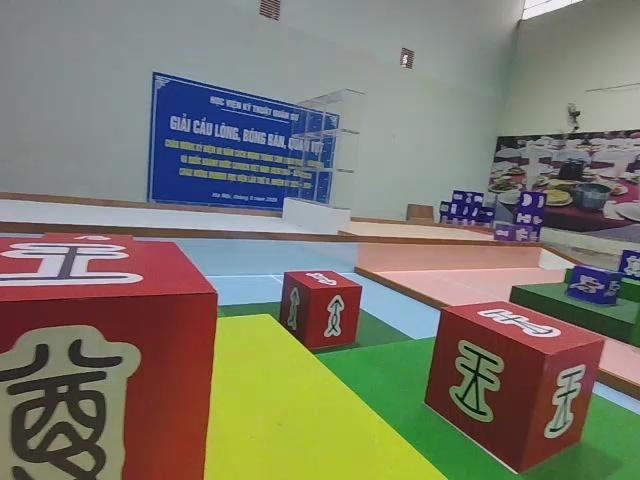R2 Fake: (0, 233, 218, 480)
R2 Real: (424, 300, 606, 475), (279, 269, 362, 351)
